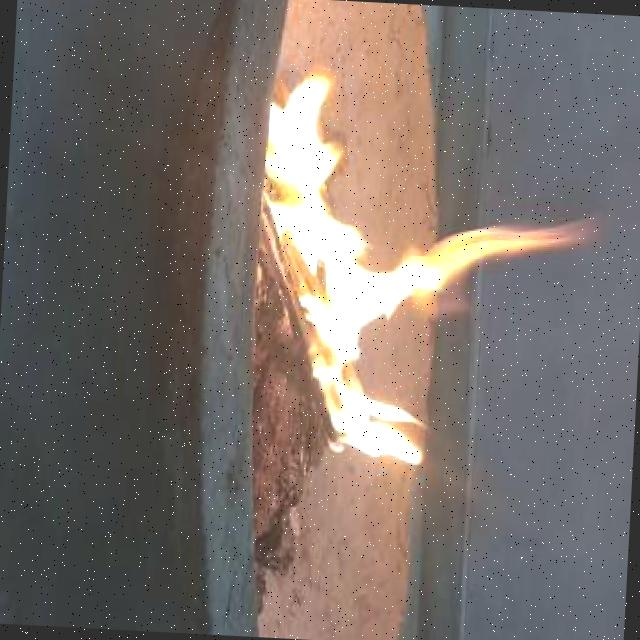fire: (255, 74, 601, 478)
